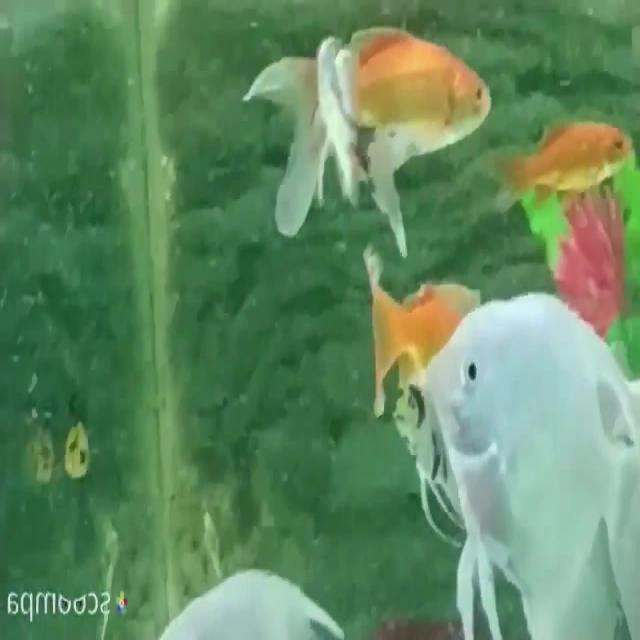GoldFish: (237, 12, 498, 246), (495, 108, 637, 232)
